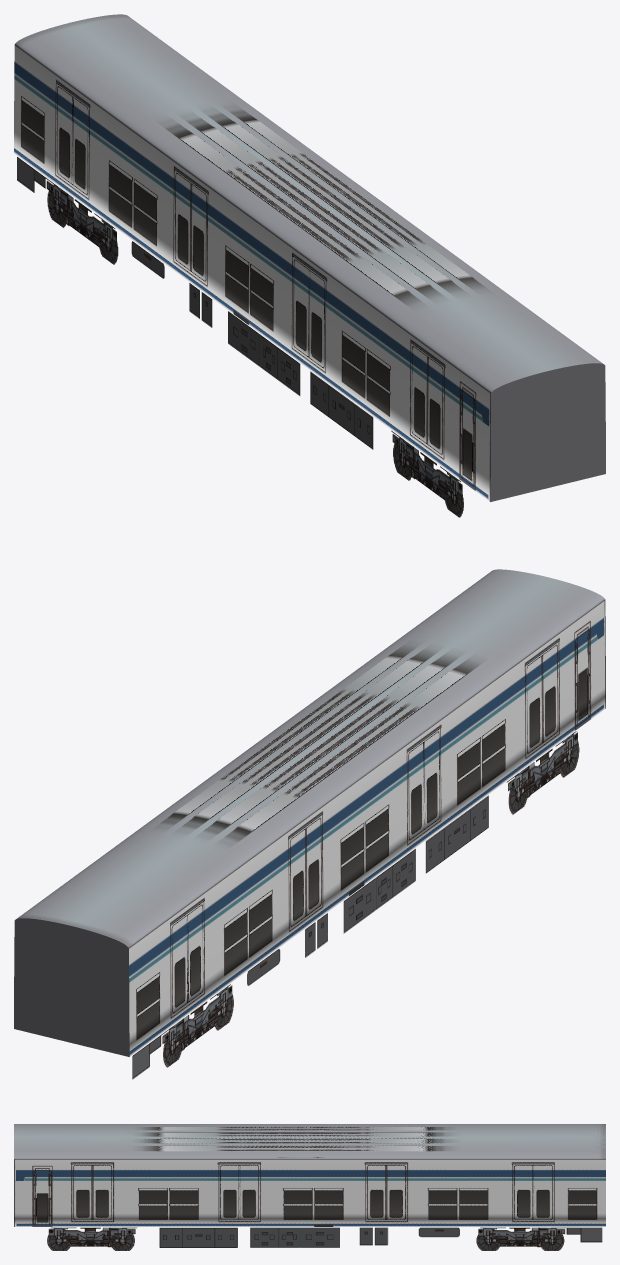
Rendered from car2.glb.
3 renders of one model, top to bottom at view 1: azimuth 30°, elevation 25°; view 2: azimuth 150°, elevation 25°; view 3: azimuth 270°, elevation 25°, orthographic. The views are drawn at different scales.
Visible parts, largest first — view 1: tobu8000_car2; view 2: tobu8000_car2; view 3: tobu8000_car2.
Boxes of the visible parts, left/top/right/bottom form: tobu8000_car2: left=14, top=14, right=605, bottom=517; tobu8000_car2: left=14, top=569, right=605, bottom=1079; tobu8000_car2: left=14, top=1124, right=605, bottom=1250.
Size of the model in its own units: 2.8 by 3.6 by 20.
5 materials, 4 textured.
